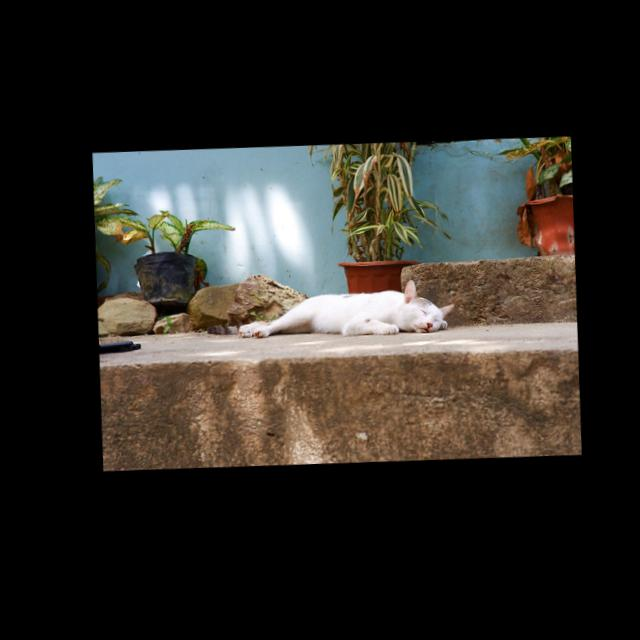animals: (233, 278, 453, 348)
